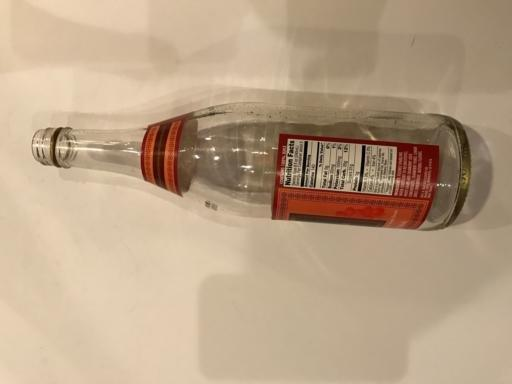botolkaca: (32, 104, 472, 231)
